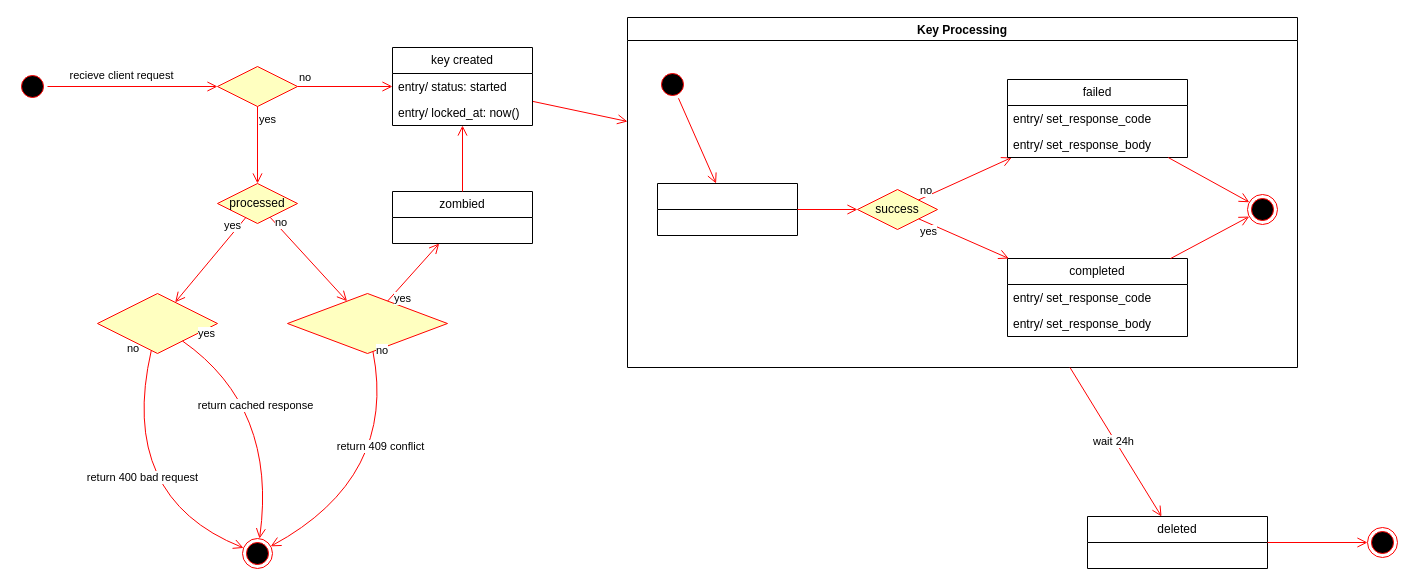
This 1415x586 diagram has some shape labels left out. Each missing label, with the centre of its shape:
"key exists" goes at point 257,86.
"now() - locked_at > 5s" goes at point 367,323.
"same req hash" goes at point 157,323.
"start" goes at point 727,209.
